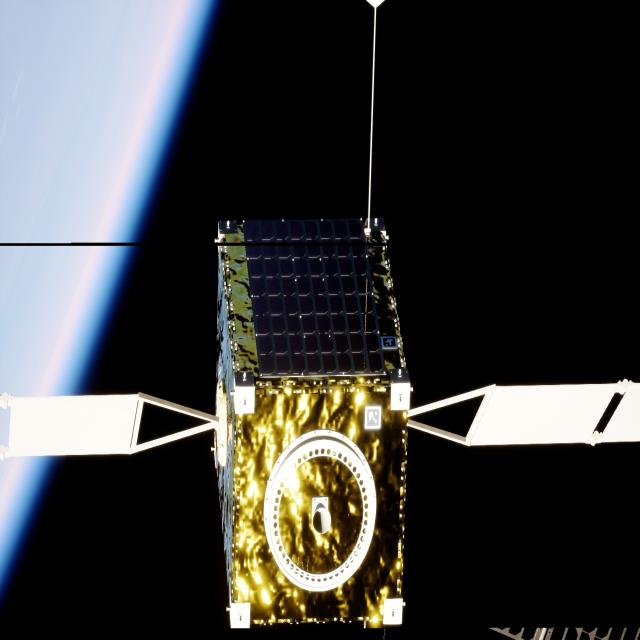satellite: (0, 217, 640, 630)
